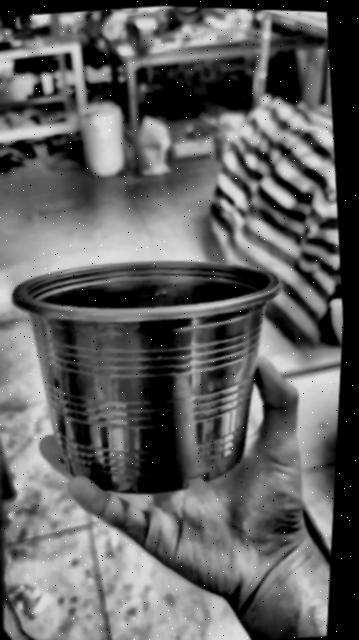pot: (0, 242, 305, 511)
